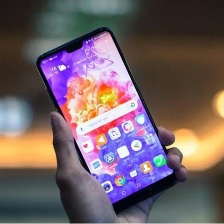phone: (34, 22, 181, 213)
